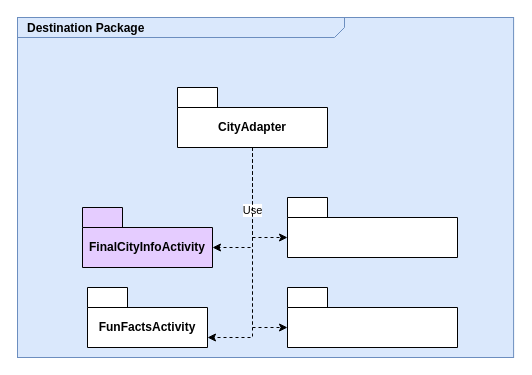
Some shapes in this 532 by 375 pixel diagram are drawn without their labels. Each missing label, with the box of its shape:
TweetsActivity: (286, 196, 458, 258)
WeatherActivity: (286, 286, 458, 348)
